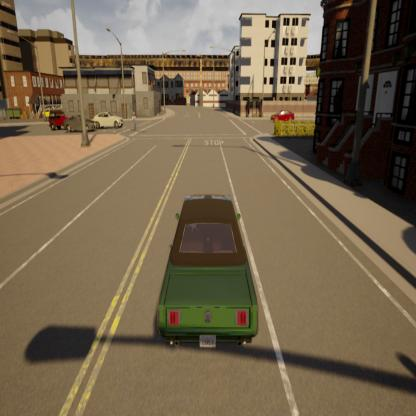Cars: (144, 181, 264, 353), (62, 111, 100, 136), (92, 106, 124, 132), (266, 103, 302, 126), (50, 109, 76, 133), (42, 103, 64, 122)
